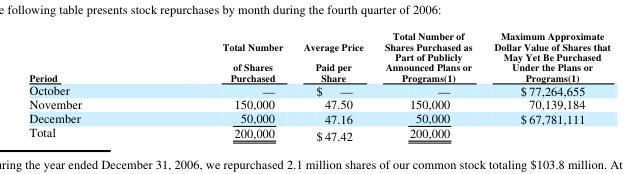table: (28, 29, 609, 143)
table column: (151, 29, 292, 143), (482, 29, 609, 143), (28, 29, 151, 143), (373, 29, 482, 143), (292, 29, 373, 143)
table column header: (28, 29, 609, 82)
table row: (28, 29, 609, 82), (28, 124, 609, 143), (28, 82, 609, 96), (28, 96, 609, 110), (28, 110, 609, 124)
